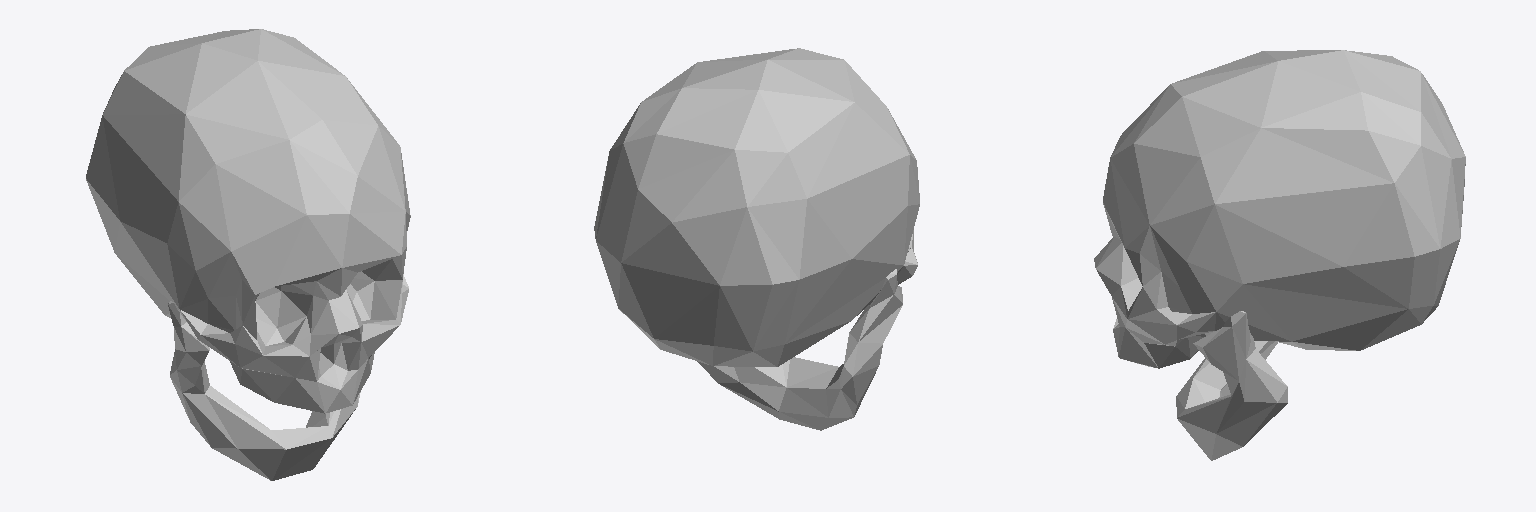
File: skull_f.obj
The picture shows the model from 3 angles: view 1: azimuth 30°, elevation 25°; view 2: azimuth 150°, elevation 25°; view 3: azimuth 270°, elevation 25°; orthographic projection.
Visible parts, largest first — view 1: sull_ret.001; view 2: sull_ret.001; view 3: sull_ret.001.
Part boxes in pixels (bbox=[...]): sull_ret.001: bbox=[86, 29, 410, 480]; sull_ret.001: bbox=[594, 48, 919, 430]; sull_ret.001: bbox=[1094, 50, 1465, 460].
Bounding box in the file's own units: 0.3059 × 0.5002 × 0.4308.